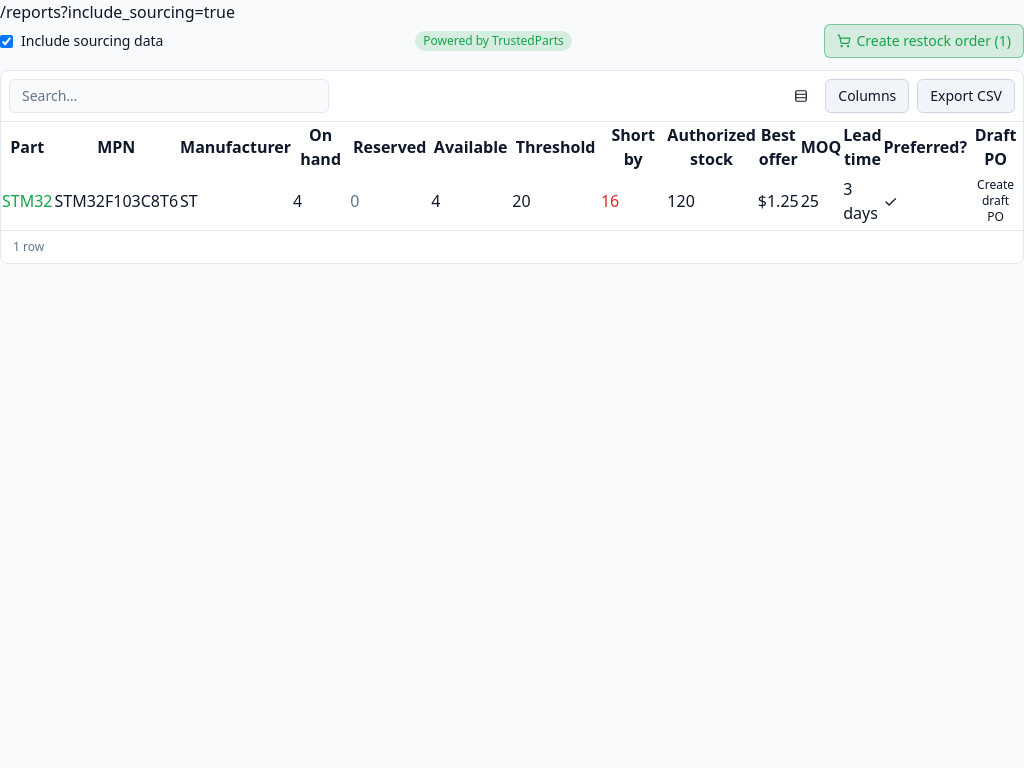
LowStockReport › Create draft PO opens modal with prefilled source
This screenshot has width=1024, height=768.
Click the button "Create draft PO" at (996, 201), box x1=969 y1=173 x2=1022 y2=229
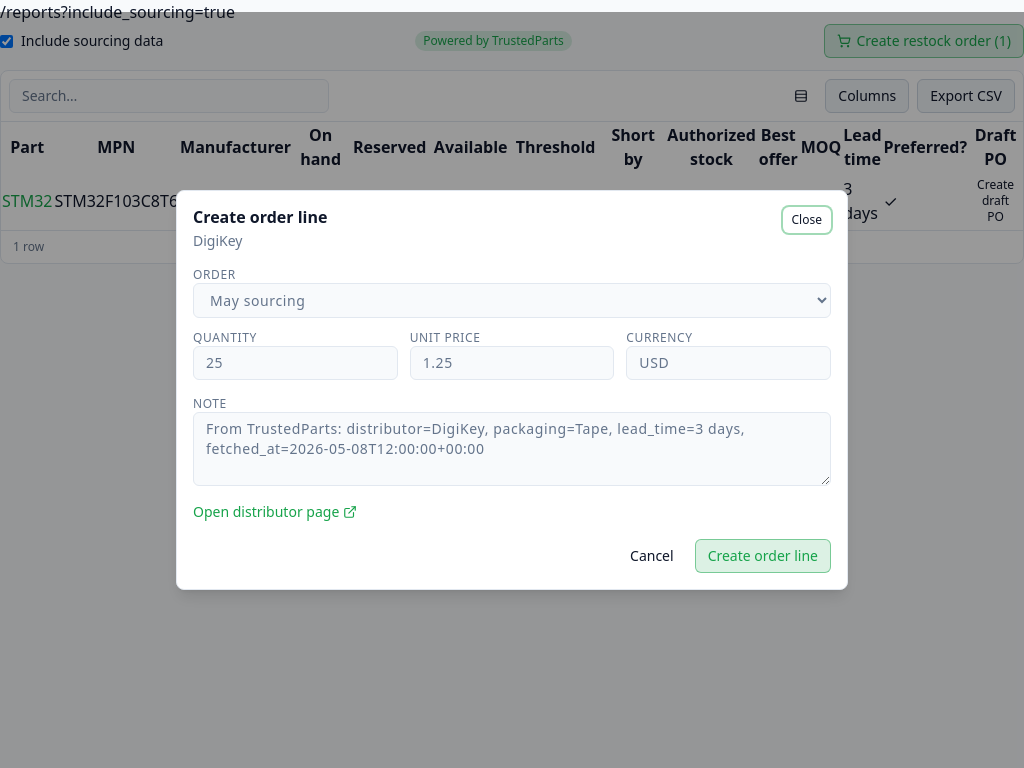
Expected: the dialog "Create order line" is shown
Expected: the dropdown labelled "Order" shows "May sourcing", x1=193 y1=283 x2=831 y2=318
Expected: the number field showing "25" is shown, x1=193 y1=346 x2=398 y2=380
